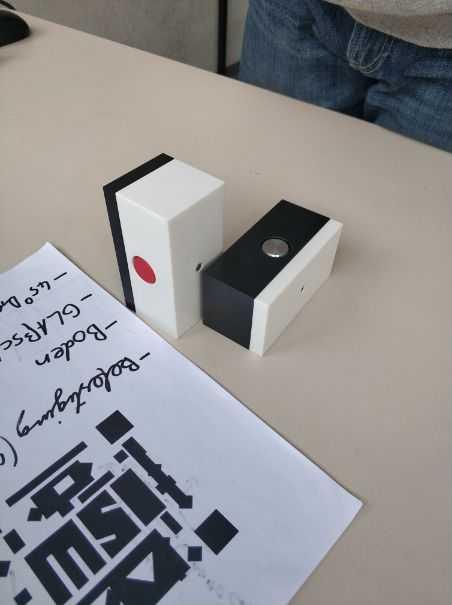black+white+red: (99, 148, 224, 342)
white+black+silver: (197, 197, 345, 358)
